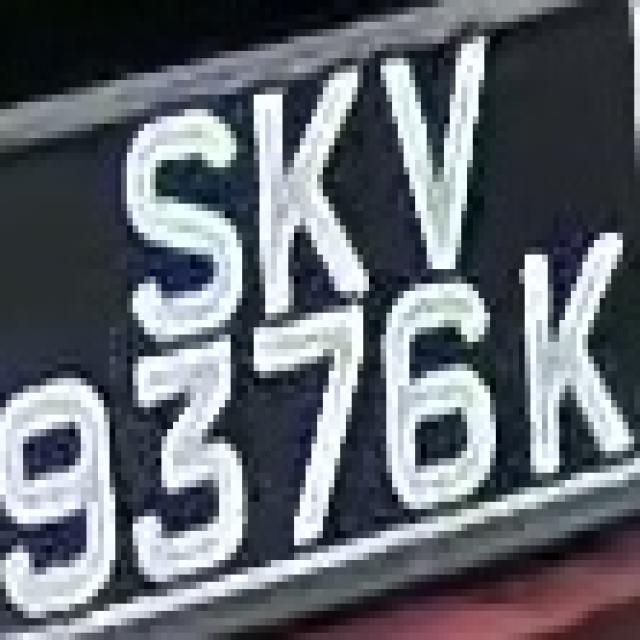3: (121, 335, 265, 589)
6: (363, 284, 513, 509)
7: (248, 306, 398, 574)
9: (0, 363, 138, 632)
K: (225, 58, 392, 320), (496, 225, 628, 480)
S: (98, 95, 248, 349)
V: (369, 51, 519, 298)
